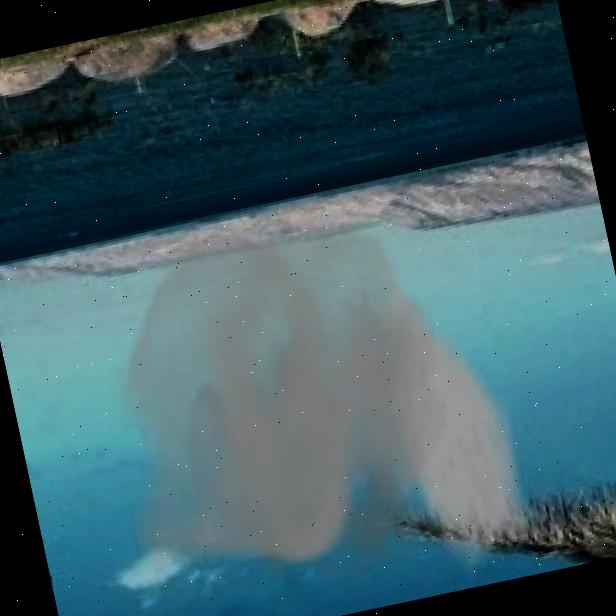smoke: (73, 161, 549, 616)
